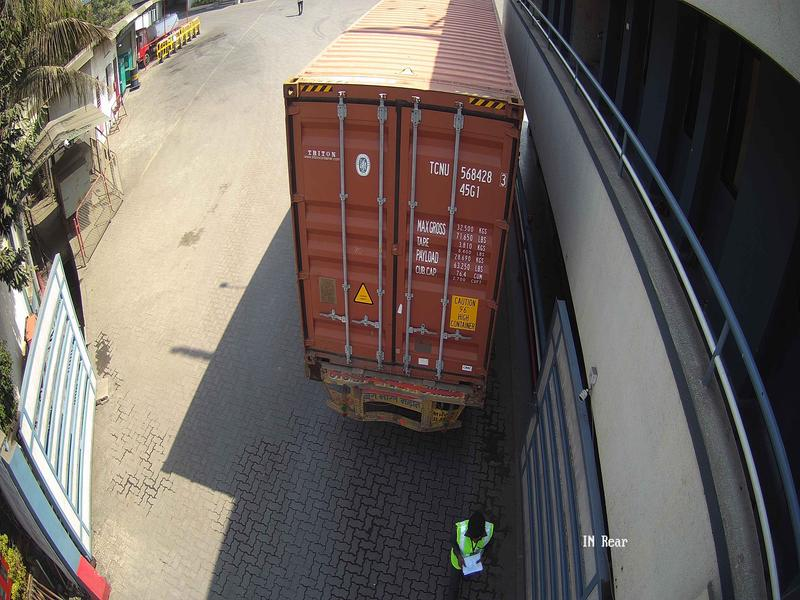container: (277, 71, 514, 396)
